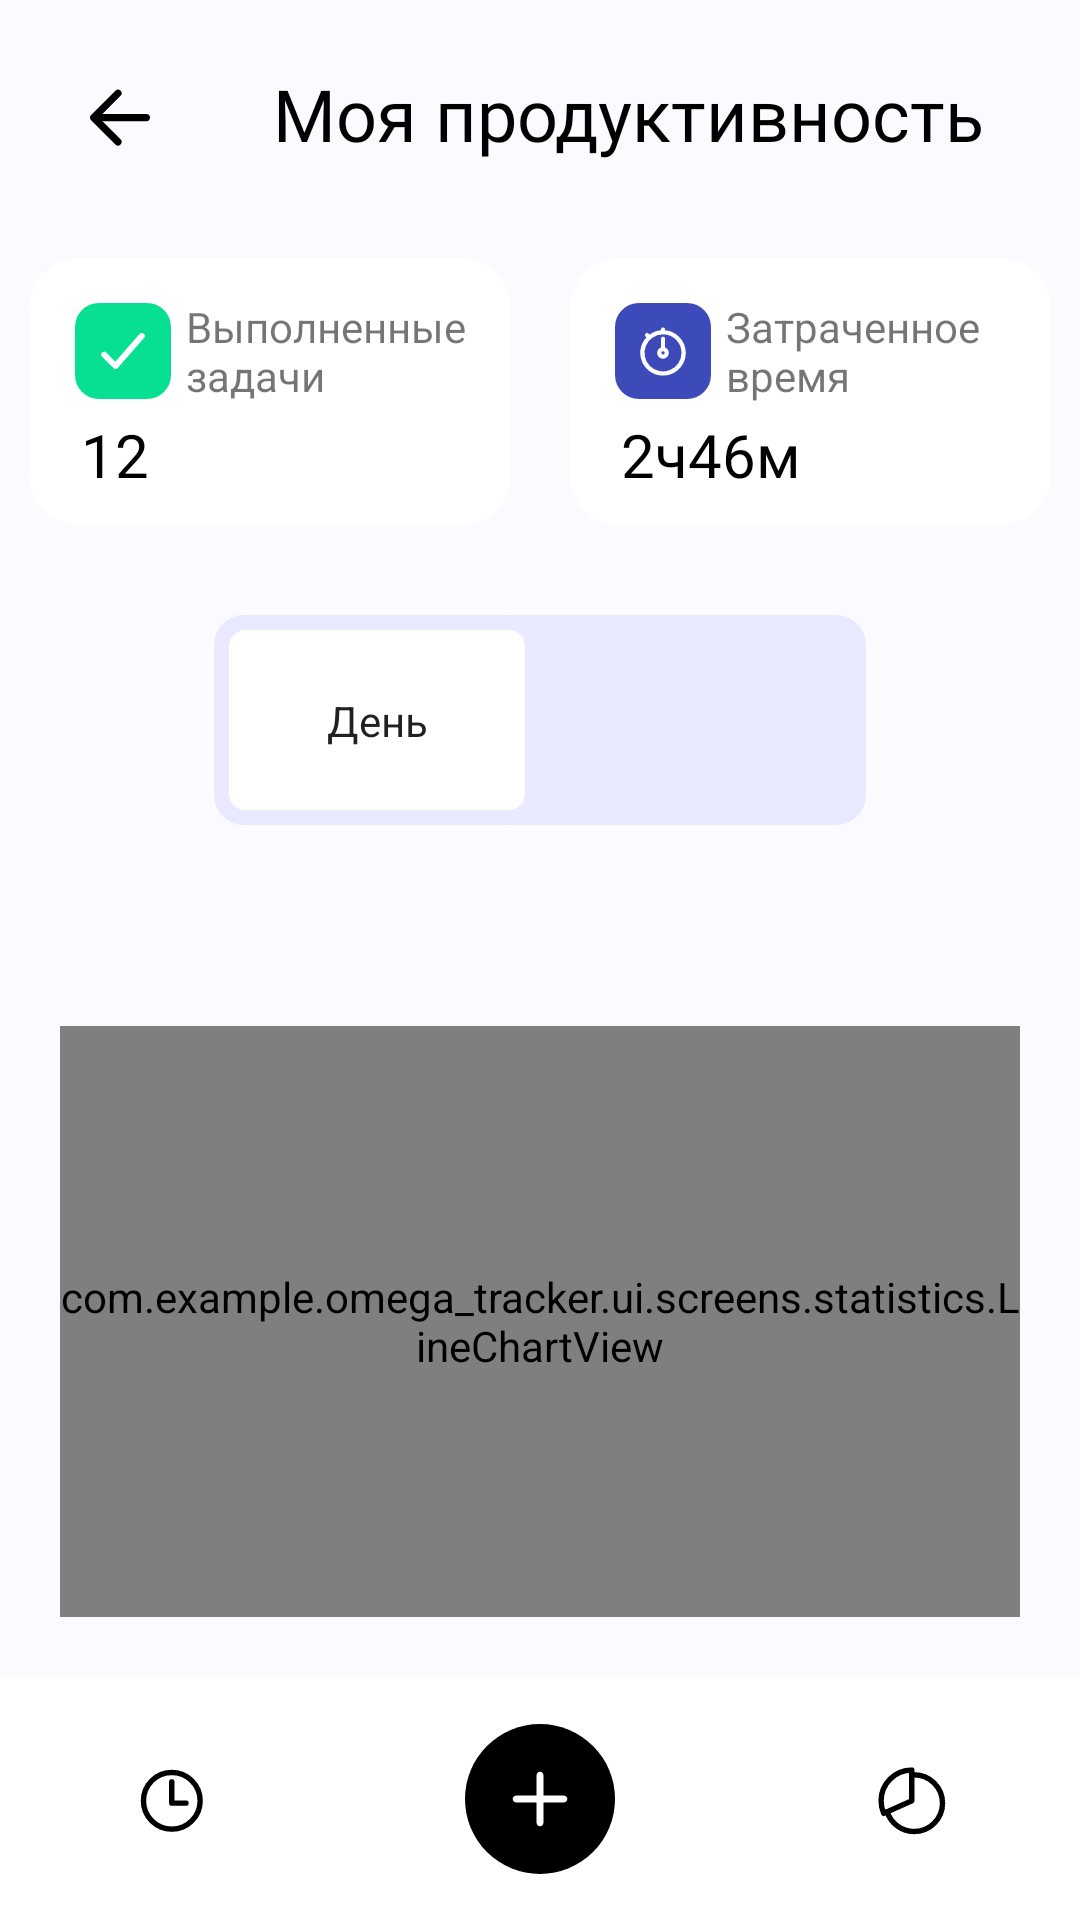

Named icons in this screenshot (1080w x 1920h) and their bounding boxes, {"left": x1, "top": y1, "right": x2, "bottom": y2}:
add: {"left": 465, "top": 1724, "right": 615, "bottom": 1874}
arrow back: {"left": 90, "top": 89, "right": 150, "bottom": 146}
check: {"left": 75, "top": 303, "right": 171, "bottom": 399}
stopwatch: {"left": 615, "top": 303, "right": 711, "bottom": 399}
time: {"left": 140, "top": 1769, "right": 203, "bottom": 1832}
